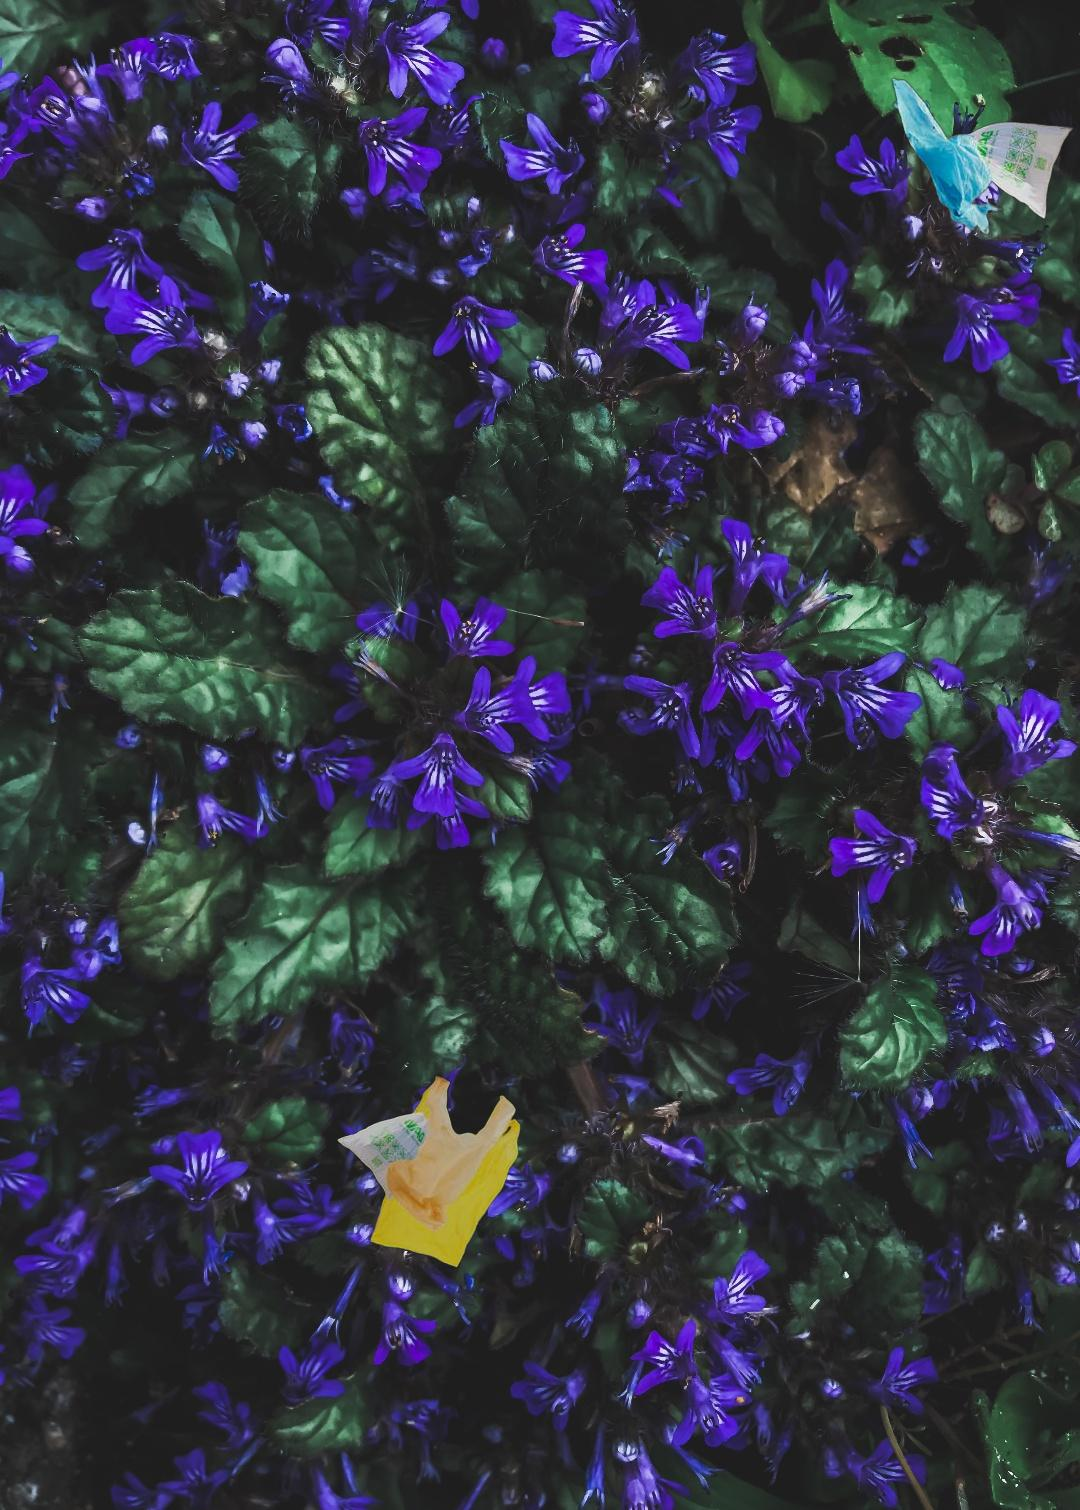plastic-bag: (335, 1073, 524, 1269), (888, 76, 1076, 238)
